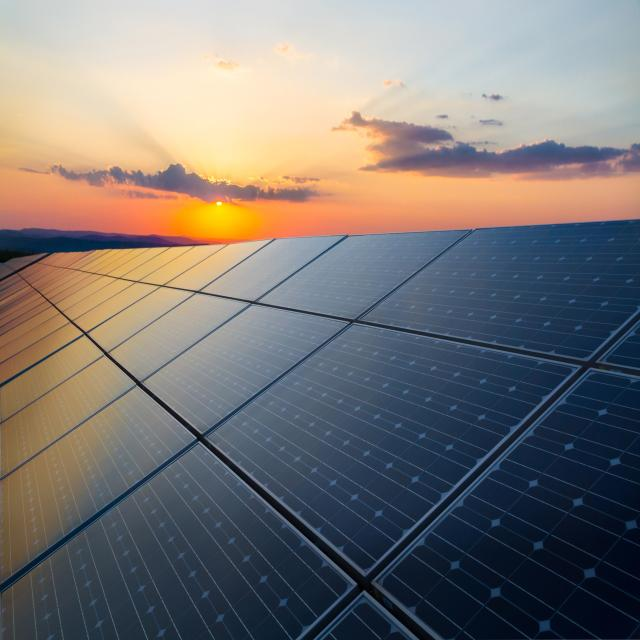clean-solar-panel: (0, 220, 640, 639)
